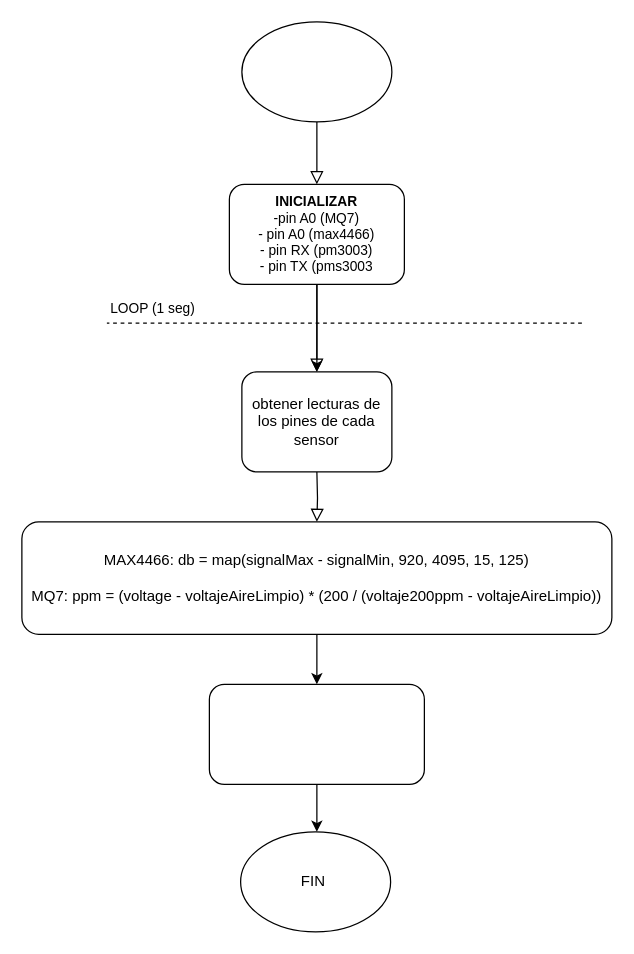
The diagram is 634 pixels wide and 954 high, and some of its shapes have lost their labels. Here are the shapes that lost their labels. From the top down, the centre of each, then its label:
At (x=316, y=71): "INICIO".
At (x=316, y=733): "Mostrar datos en la aplicación".
